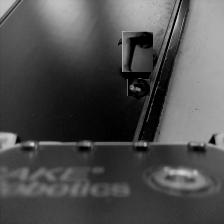Door Handle: (120, 33, 155, 70)
Lock: (129, 77, 149, 98)
